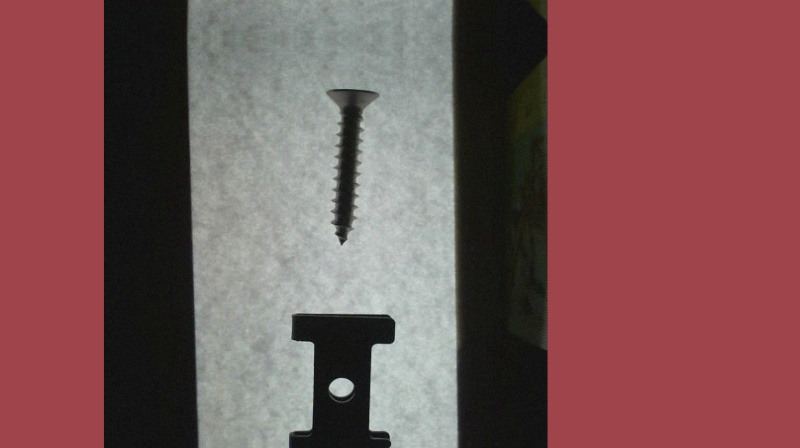O001: (293, 0, 376, 33)
O002: (287, 308, 400, 447)
S001: (320, 86, 381, 245)
